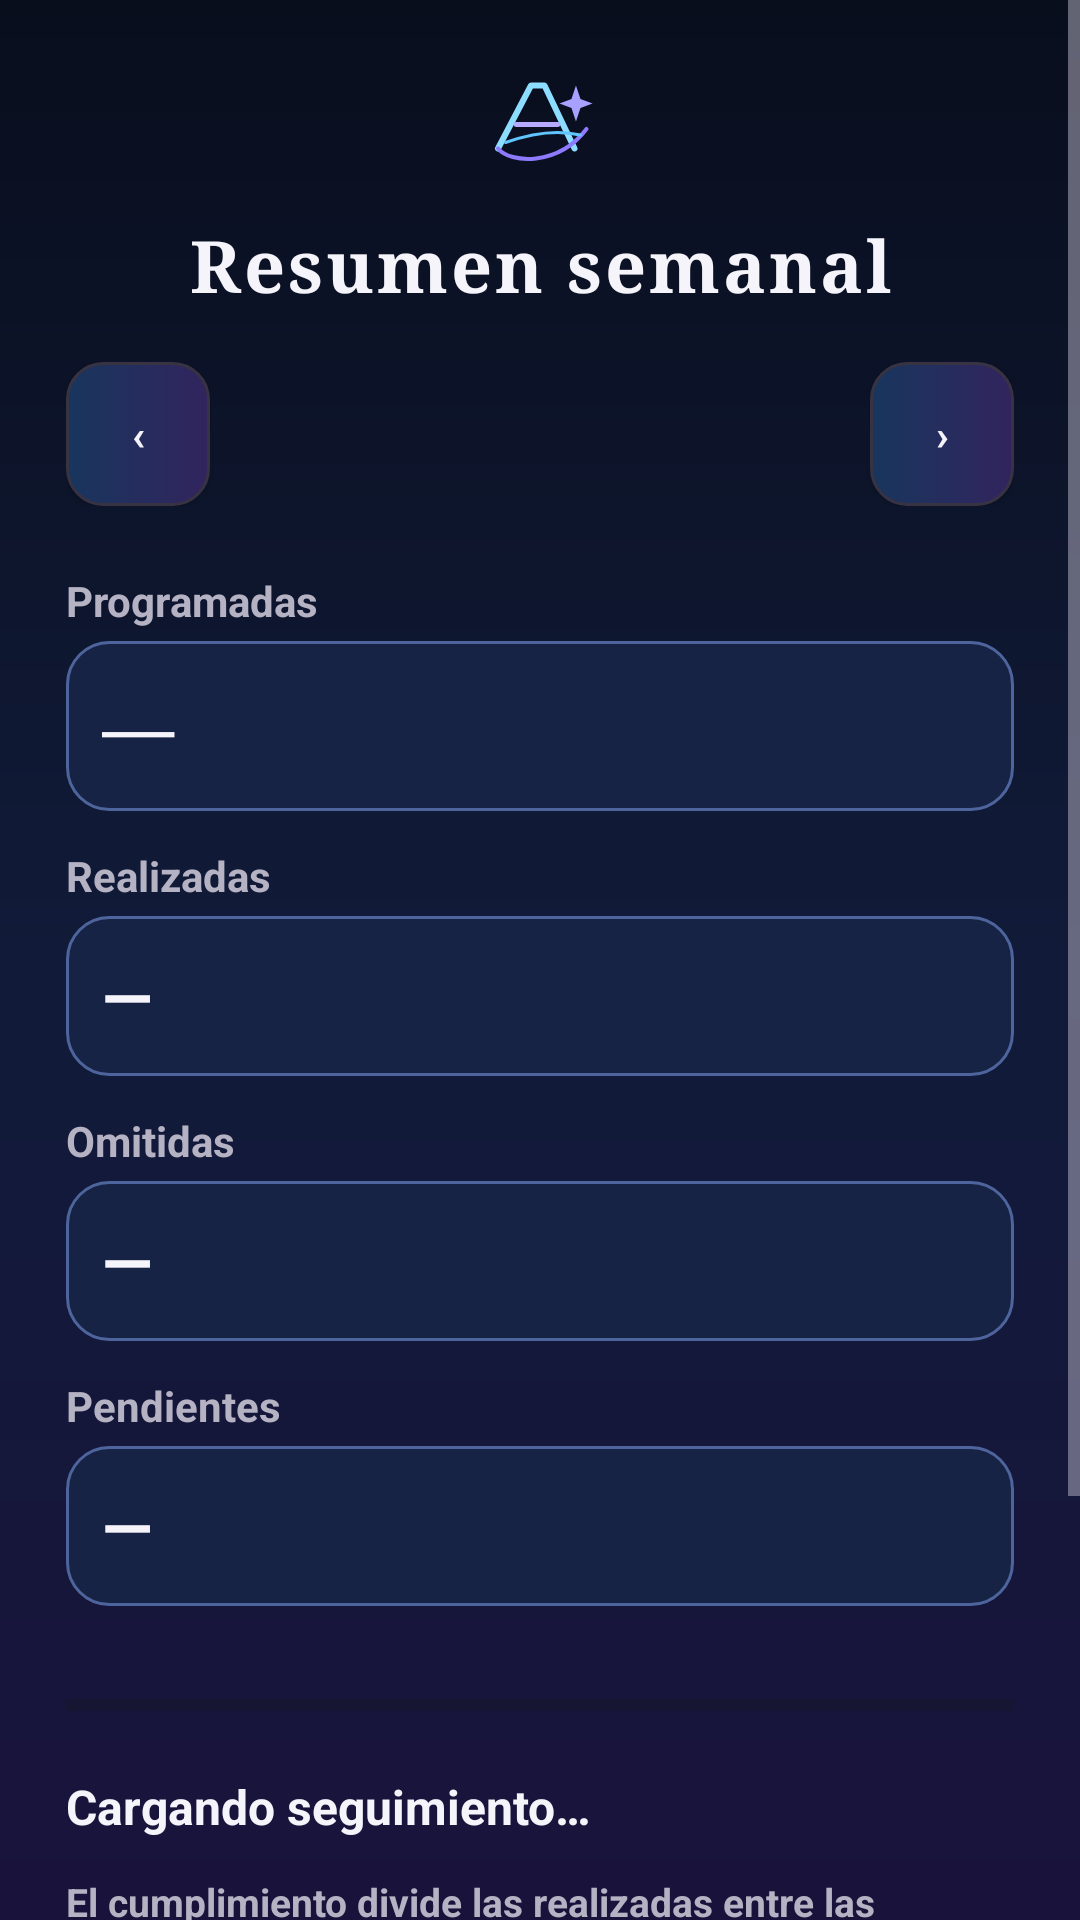

Where icons sit on this 1080*1920 app screen, as (x1, y1, x2, y2):
asterion crest: (495, 82, 593, 161)
